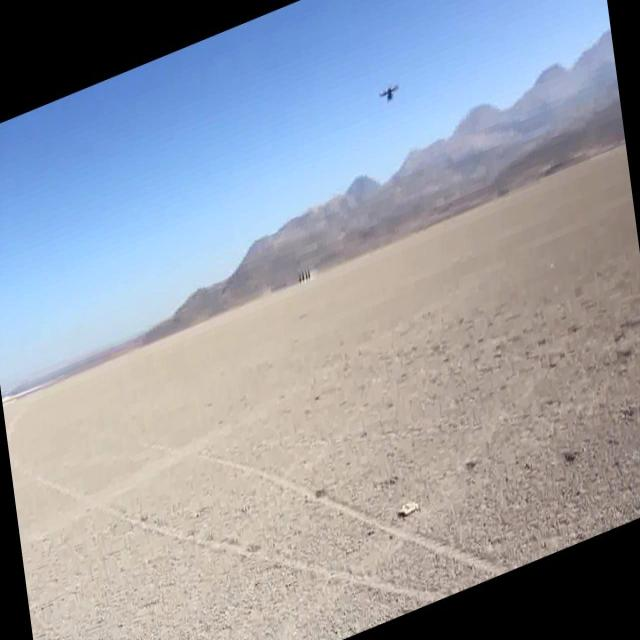drone: (378, 75, 402, 112)
